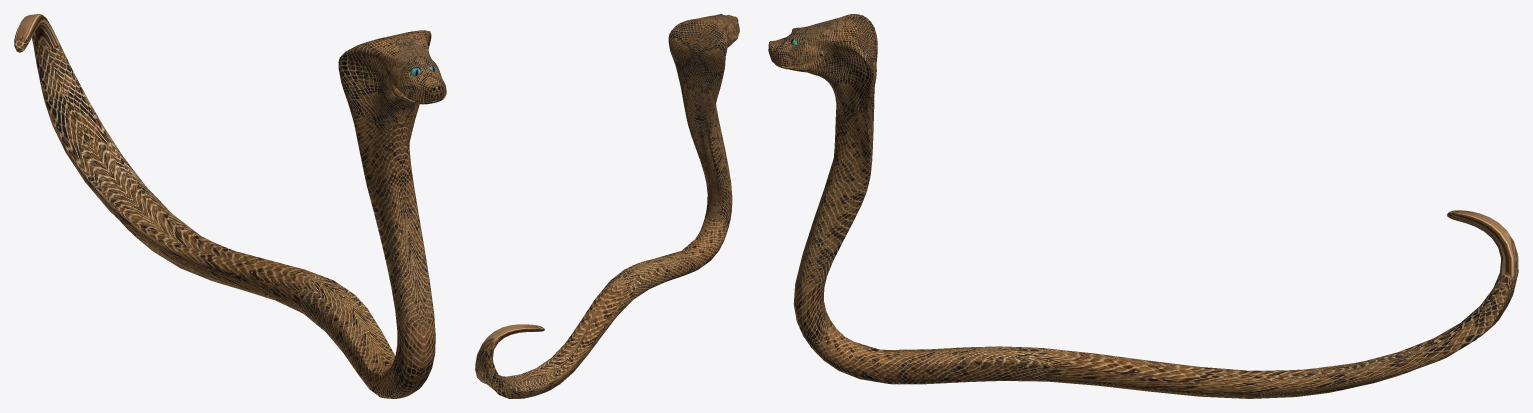
Rendered from smiling_cobra.obj.
The picture shows the model from 3 angles, left to right: view 1: azimuth 30°, elevation 25°; view 2: azimuth 150°, elevation 25°; view 3: azimuth 270°, elevation 25°; orthographic projection. The views are drawn at different scales.
Visible parts, largest first — view 1: Object_4; view 2: Object_4; view 3: Object_4.
Part boxes in pixels (box(x1,y1,x2,y2)): Object_4: box(14, 14, 446, 398); Object_4: box(475, 14, 739, 398); Object_4: box(768, 14, 1518, 398).
Bounding box in the file's own units: 0.8814 × 2.93 × 5.38.
2 materials, 2 textured.
